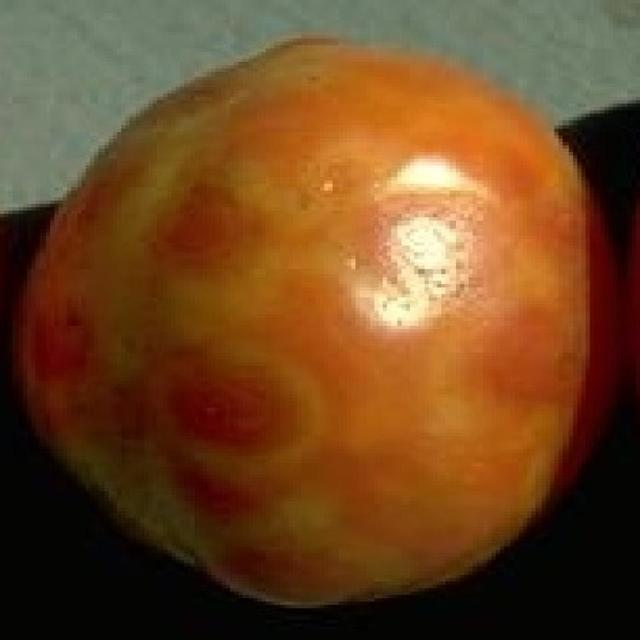Spotted wilt Virus Fruit: (15, 22, 410, 405)
